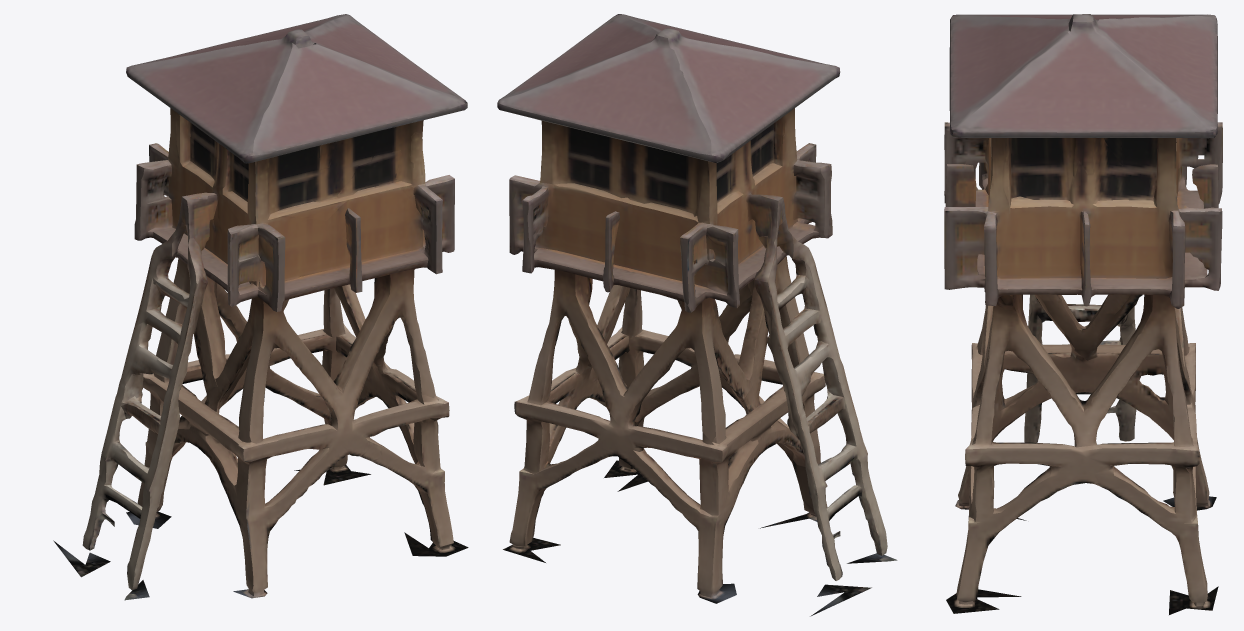
File: watchtower.glb
The picture shows the model from 3 angles, left to right: view 1: azimuth 30°, elevation 25°; view 2: azimuth 150°, elevation 25°; view 3: azimuth 270°, elevation 25°; orthographic projection. The views are drawn at different scales.
Visible parts, largest first — view 1: geometry_0; view 2: geometry_0; view 3: geometry_0.
Boxes of the visible parts, x1,y1,x2,y2 form: geometry_0: [53, 14, 468, 600]; geometry_0: [497, 14, 897, 616]; geometry_0: [944, 14, 1222, 614].
Size of the model in its own units: 0.3331 by 0.4277 by 0.2039.
Materials: 1 (1 with a texture image).
